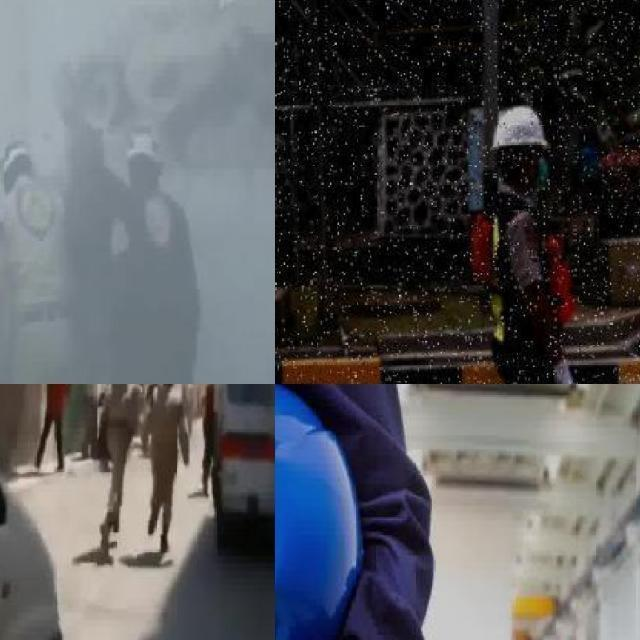apron: (546, 354, 577, 384)
